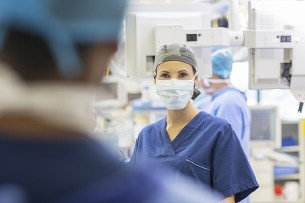Mask: (154, 68, 195, 109)
